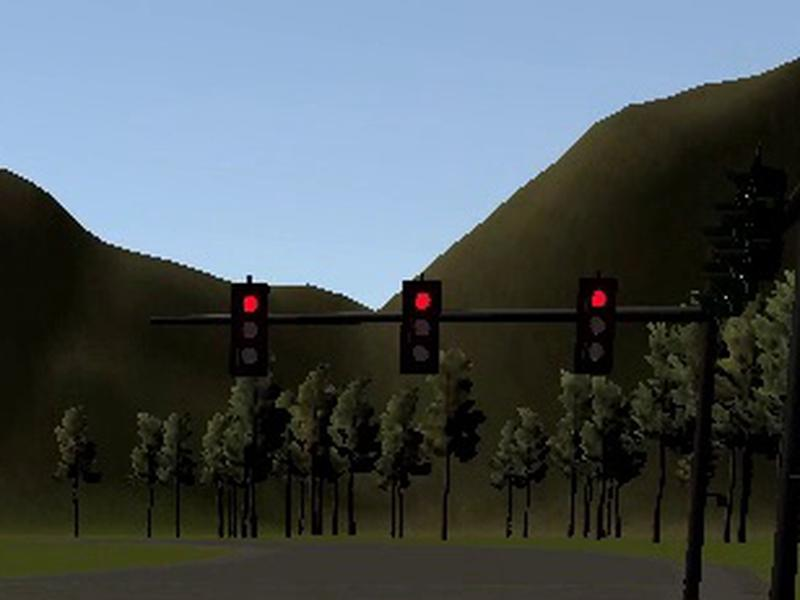Red: (574, 277, 619, 375), (399, 280, 442, 374), (230, 282, 270, 377)
